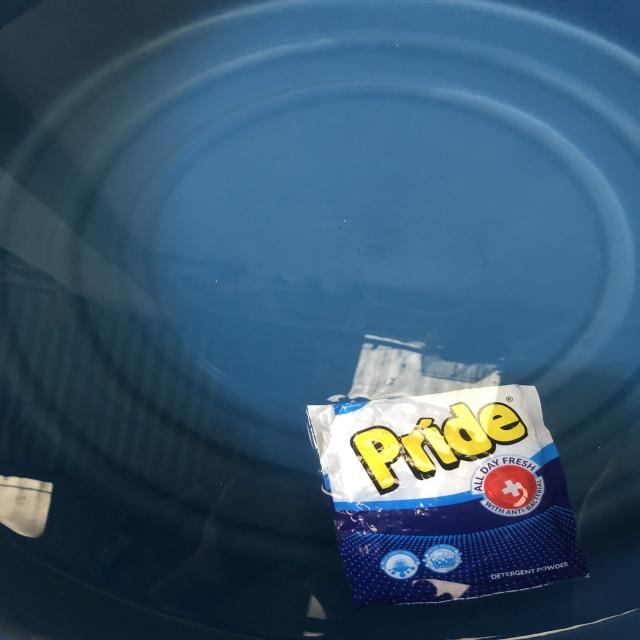Plastic Wrapper: (307, 384, 588, 606)
